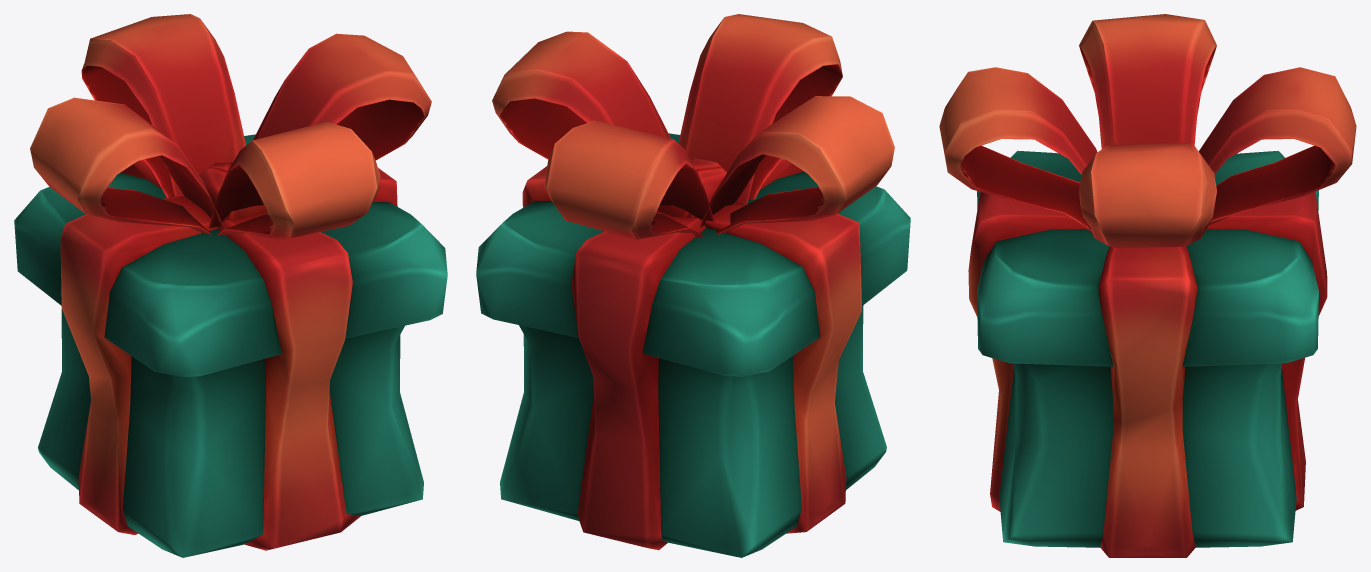
File: present_02_LOD2.fbx
3 renders of one model, left to right at view 1: azimuth 30°, elevation 25°; view 2: azimuth 150°, elevation 25°; view 3: azimuth 270°, elevation 25°, orthographic.
Parts seen in each view (by area): view 1: present_02_LOD0; view 2: present_02_LOD0; view 3: present_02_LOD0.
Part boxes in pixels (box(x1,y1,x2,y2)): present_02_LOD0: box(14, 14, 447, 557); present_02_LOD0: box(476, 14, 910, 557); present_02_LOD0: box(939, 14, 1356, 557).
Bounding box in the file's own units: 53.26 × 58.91 × 53.26.
Materials: 1 (1 with a texture image).
